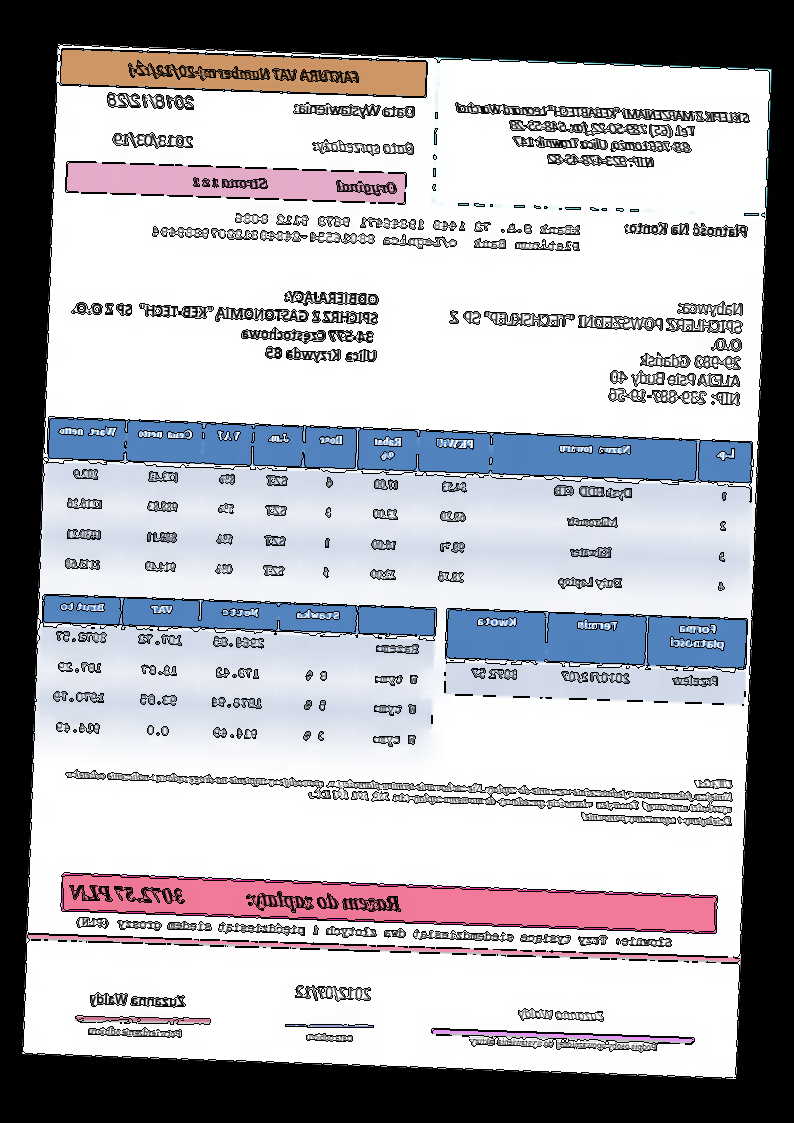Table: (41, 413, 755, 608), (36, 591, 439, 760), (443, 605, 749, 707)
TextBox: (61, 753, 735, 829), (444, 289, 746, 409), (68, 279, 383, 367), (450, 98, 752, 175), (74, 914, 675, 951), (149, 206, 585, 255), (66, 878, 405, 917), (125, 60, 362, 87), (190, 171, 400, 200), (466, 1032, 660, 1055), (291, 96, 418, 123), (309, 134, 420, 159), (621, 219, 750, 240), (86, 987, 189, 1011), (105, 89, 197, 115), (86, 1020, 184, 1043), (515, 1003, 609, 1025), (293, 981, 377, 1004), (111, 130, 198, 152), (304, 1027, 356, 1047)
